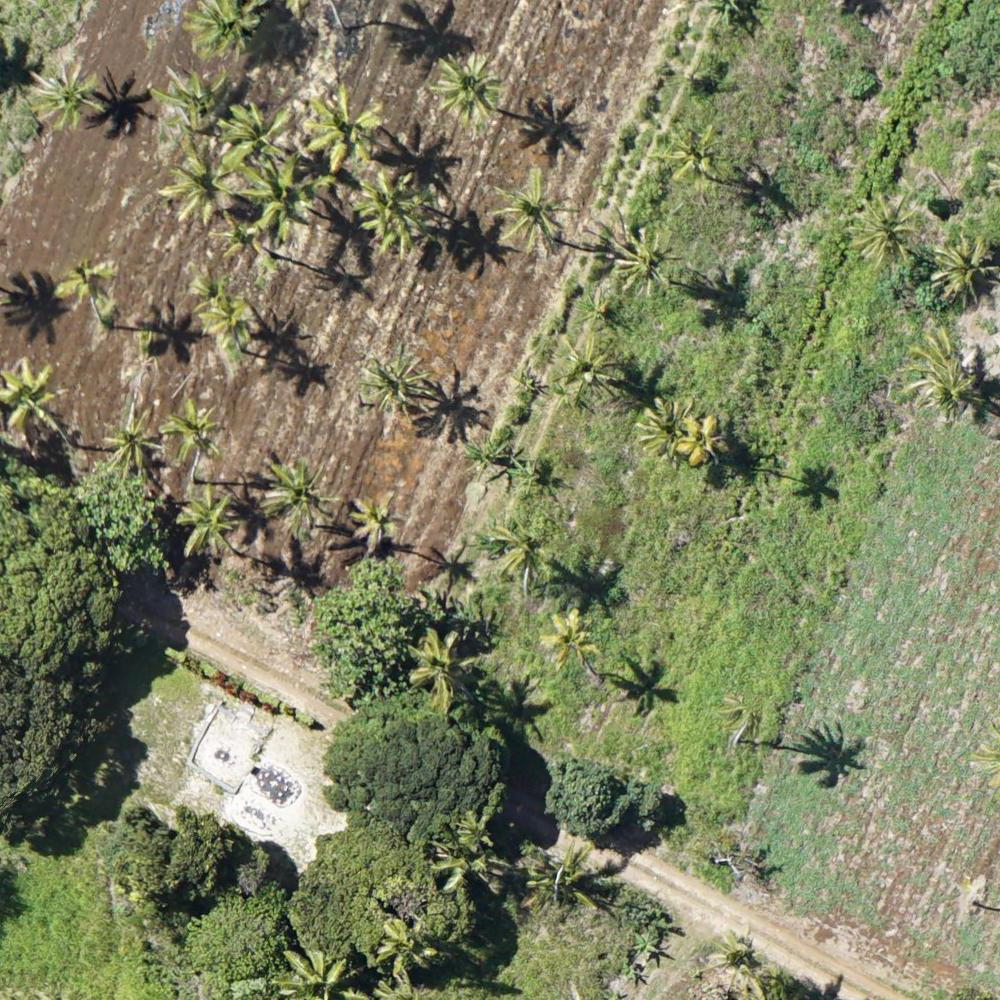Palm: (239, 161, 321, 243), (299, 88, 383, 168), (905, 326, 976, 412), (163, 144, 237, 224), (257, 458, 333, 534), (28, 54, 105, 129), (495, 165, 565, 247), (545, 334, 623, 405), (220, 99, 299, 169), (433, 52, 506, 127), (356, 171, 430, 244), (152, 66, 230, 134), (404, 630, 471, 708), (174, 488, 241, 562), (357, 344, 424, 416), (934, 230, 998, 304), (606, 226, 676, 293), (102, 404, 165, 478), (665, 124, 731, 191), (850, 200, 916, 267), (1, 356, 59, 430), (709, 929, 772, 994), (188, 1, 257, 60), (537, 613, 601, 675), (492, 515, 553, 578), (198, 286, 256, 347), (166, 401, 223, 463), (54, 260, 117, 314), (349, 497, 403, 548), (720, 691, 769, 743), (679, 416, 729, 464)
